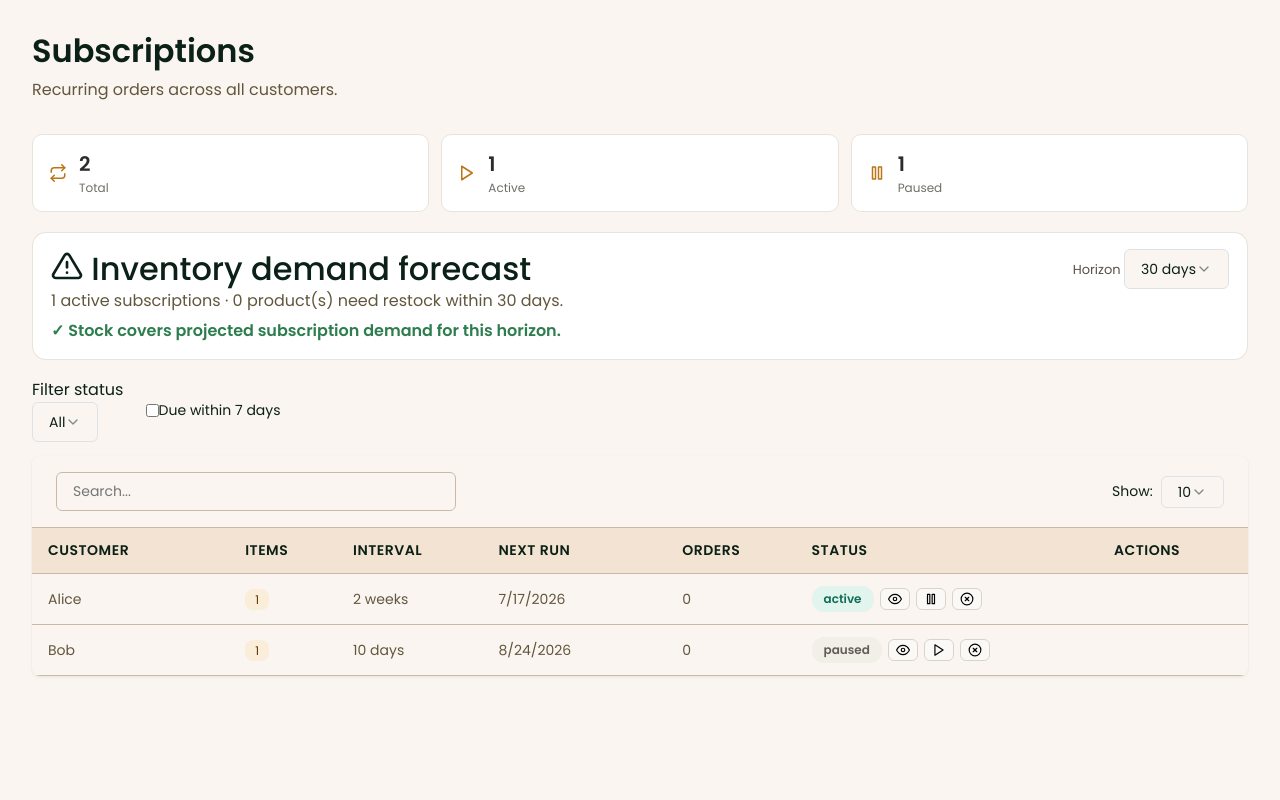
Test case: AdminSubscriptions › opens an enriched detail drawer with per-cycle total and history
Check: the text "Alice" is shown, box top-left (32, 574), bottom-right (229, 625)
Click the button titled "View items" in the row of "Alice" at (894, 599), box top-left (880, 588), bottom-right (910, 610)
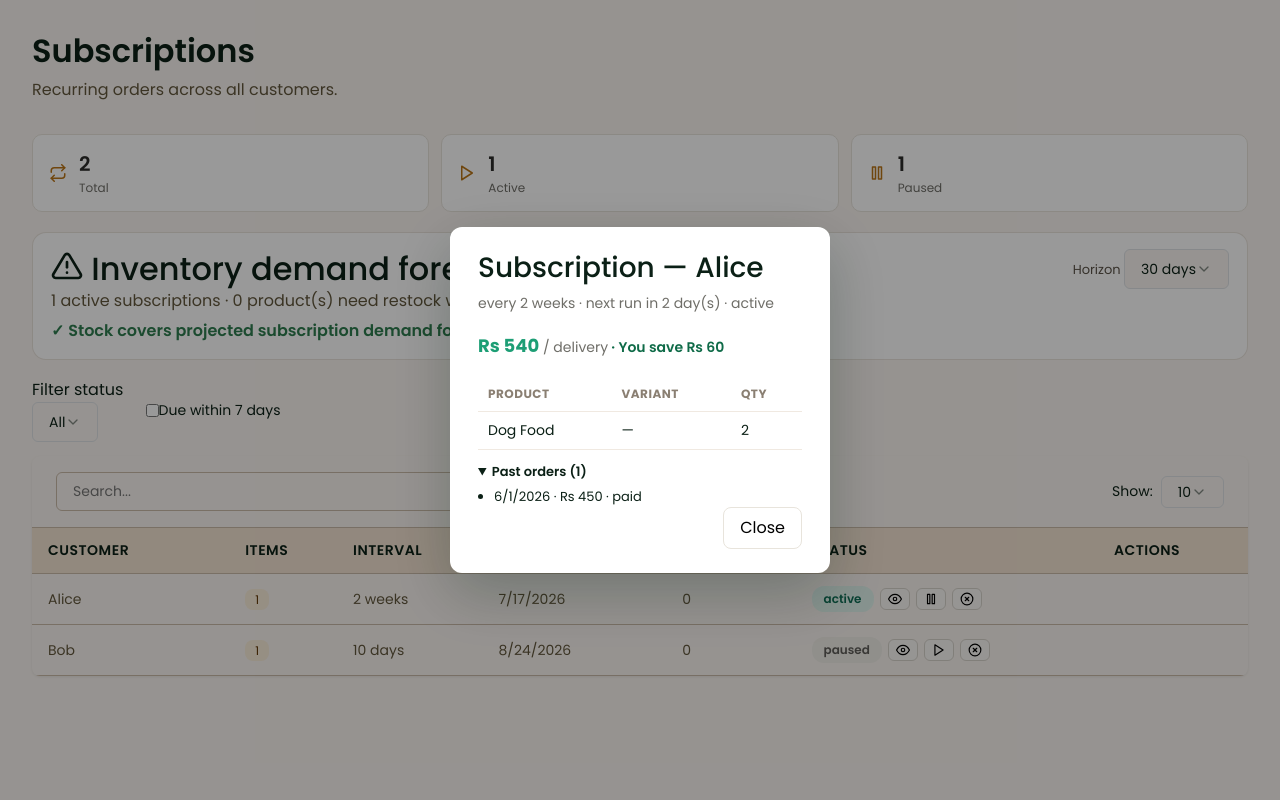
Check: the text "Rs 540" is shown, box top-left (478, 333), bottom-right (539, 358)
Check: the text "· You save Rs 60" is shown, box top-left (608, 337), bottom-right (724, 357)
Check: the heading "Past orders (1)" is shown, box top-left (492, 462), bottom-right (587, 481)
